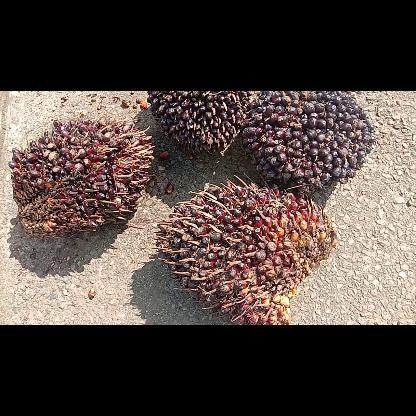TBS mentah: (154, 176, 336, 324), (7, 114, 160, 240), (242, 90, 376, 192), (146, 92, 252, 156)
